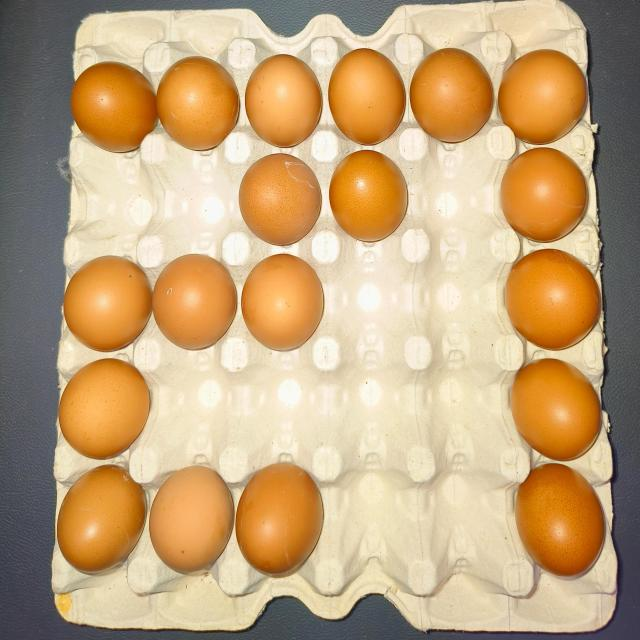Eggs: (509, 354, 611, 462), (518, 469, 622, 574), (502, 248, 608, 349), (140, 250, 234, 355), (152, 455, 232, 577), (75, 238, 156, 352), (497, 147, 592, 243), (231, 258, 324, 356), (237, 147, 325, 245), (55, 475, 147, 568), (245, 464, 317, 574), (332, 39, 407, 144), (68, 56, 152, 149), (500, 48, 585, 136), (59, 372, 158, 446), (159, 58, 240, 144), (418, 42, 492, 136), (255, 50, 323, 144), (331, 152, 405, 238)
